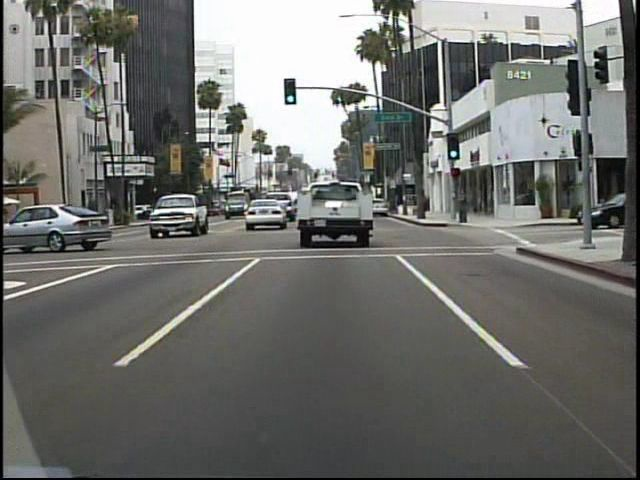person: (453, 181, 471, 226)
